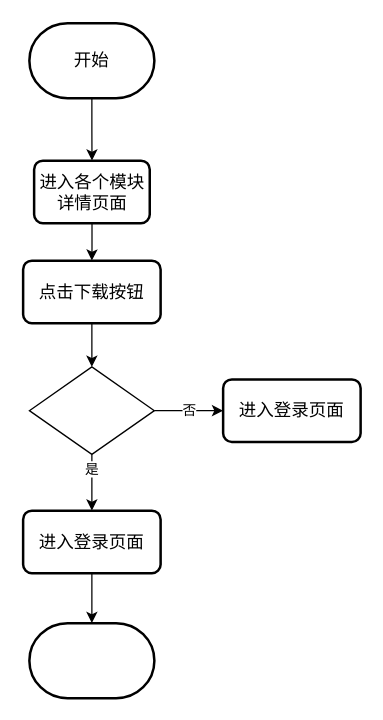
Some shapes in this 383 by 720 pixel diagram are drawn without their labels. The box of each missing label's shape, as (x1, y1, x2, y2) in pixels:
是否已登录: (28, 366, 154, 454)
结束: (28, 621, 155, 699)
